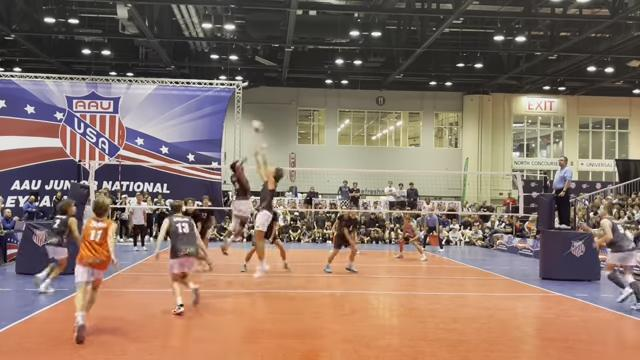Player: (74, 196, 116, 343), (155, 201, 199, 314), (595, 202, 639, 309), (35, 200, 79, 292), (221, 159, 252, 254), (324, 211, 357, 272), (395, 213, 426, 260), (265, 212, 289, 269), (197, 234, 212, 270)
Set: (251, 143, 282, 279)
ball: (252, 119, 263, 135)
